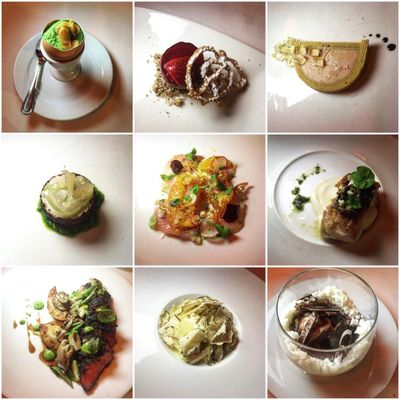curry: (80, 336, 102, 356), (95, 305, 117, 325)
salad: (22, 41, 45, 115)
soup: (320, 165, 382, 244)
sushi: (275, 269, 379, 376)
